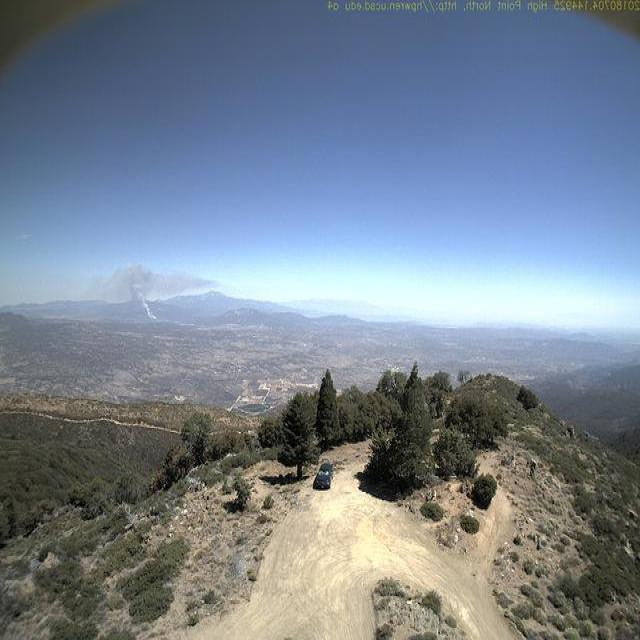Smoke: (95, 259, 220, 328)
